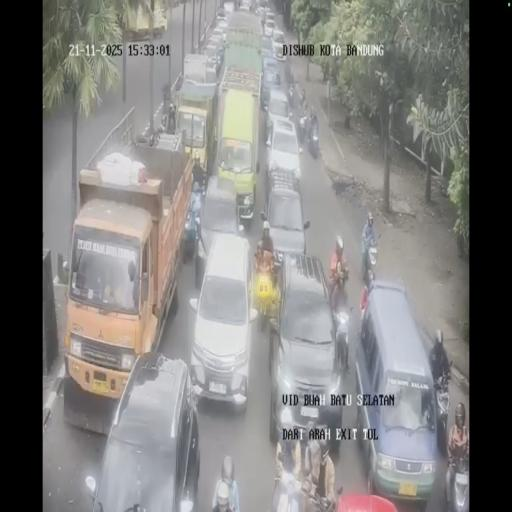3: (64, 143, 192, 416), (172, 68, 218, 181), (221, 9, 264, 81), (124, 0, 168, 38)
car: (354, 279, 438, 501), (270, 254, 343, 446), (197, 173, 246, 274), (262, 184, 306, 259), (264, 114, 301, 192), (260, 59, 281, 108), (202, 42, 224, 79), (260, 34, 276, 65), (263, 21, 275, 39), (255, 3, 267, 20), (216, 5, 228, 22), (240, 0, 252, 12)
truck: (254, 250, 282, 332), (445, 438, 470, 511), (432, 366, 452, 450), (182, 188, 200, 262), (335, 314, 350, 373), (362, 234, 378, 283), (297, 108, 307, 141), (293, 80, 304, 110)
